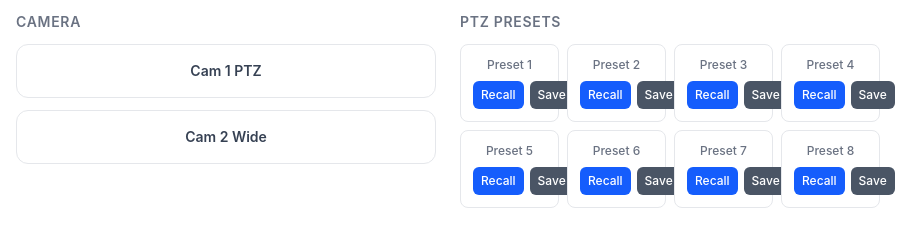
CommandPanel › preset buttons are disabled while a preset command is pending
What coordinates should you click on to do the following:
click the button with aria-label "Recall 1"
I would click on:
 (498, 95)
Its box is [473, 81, 524, 109].
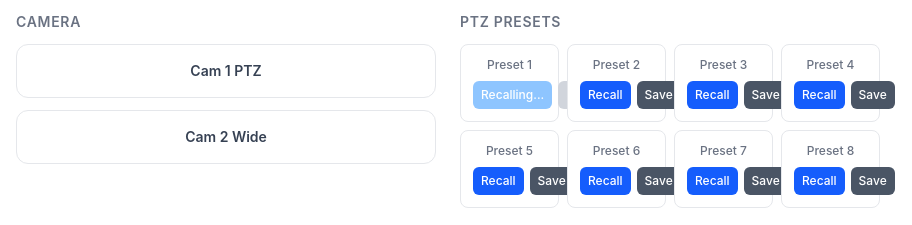
Now the button with aria-label "Recall 1" is disabled, box [473, 81, 552, 109]
